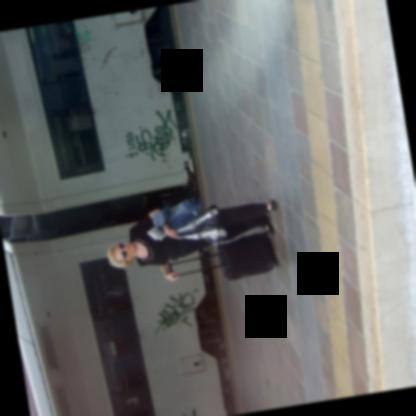handbag: (175, 202, 226, 240)
suitcase: (168, 228, 277, 279)
